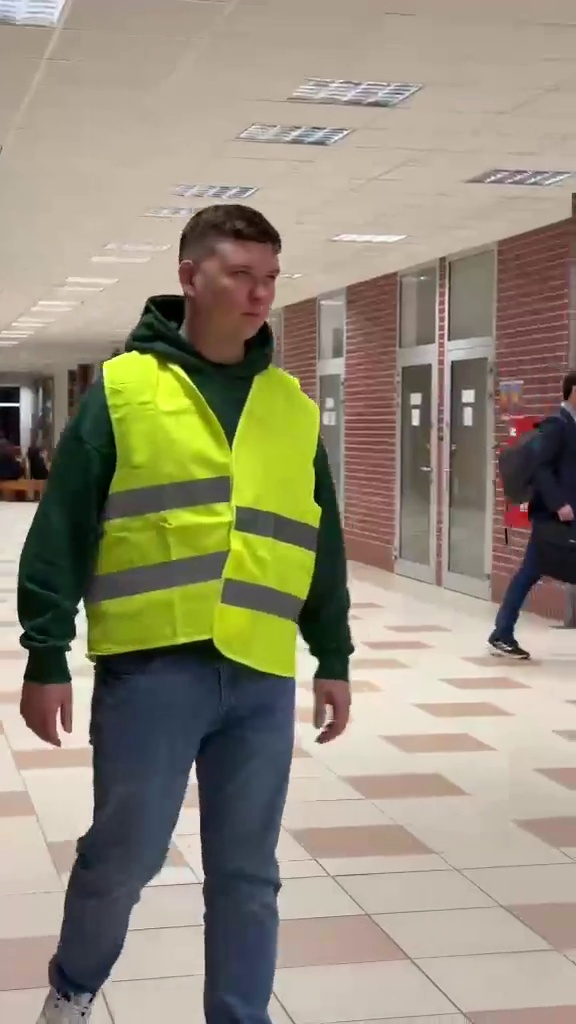no vest: (478, 346, 576, 664)
vest: (16, 196, 347, 975)
